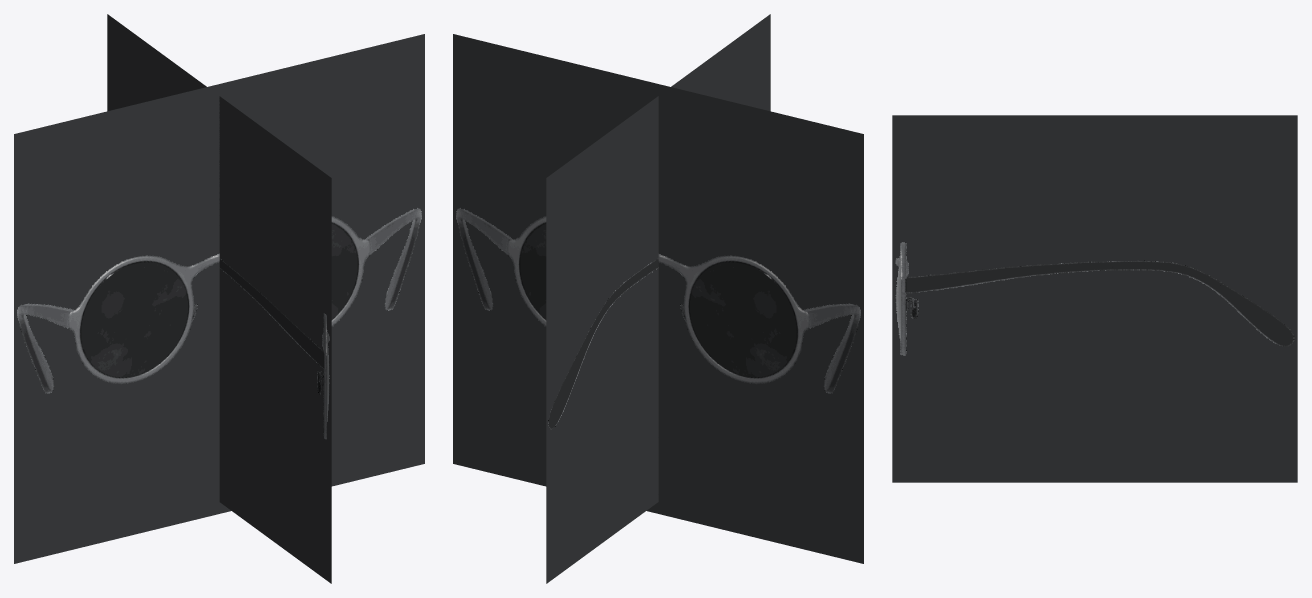
Rendered from round_spectacles_v2_pbr_mobil_bb.glb.
The picture shows the model from 3 angles, left to right: view 1: azimuth 30°, elevation 25°; view 2: azimuth 150°, elevation 25°; view 3: azimuth 270°, elevation 25°; orthographic projection. The views are drawn at different scales.
Parts seen in each view (by area): view 1: round_spectacles_v2_pbr_bb; view 2: round_spectacles_v2_pbr_bb; view 3: round_spectacles_v2_pbr_bb.
Part boxes in pixels (bbox=[...]): round_spectacles_v2_pbr_bb: bbox=[14, 14, 424, 583]; round_spectacles_v2_pbr_bb: bbox=[453, 14, 863, 583]; round_spectacles_v2_pbr_bb: bbox=[892, 115, 1297, 482].
Size of the model in its own units: 0.161 by 0.161 by 0.152.
Materials: 1 (1 with a texture image).
